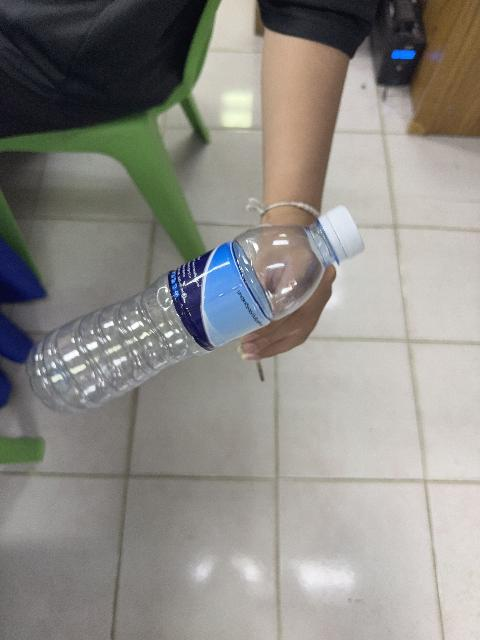bottle: (26, 207, 362, 412)
